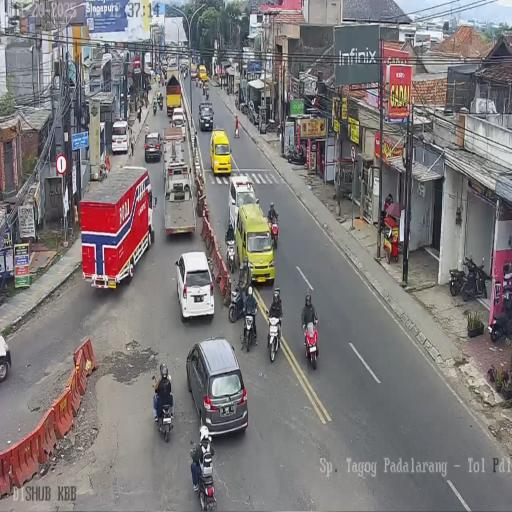car: (186, 338, 248, 438), (236, 202, 274, 283), (173, 252, 213, 324), (210, 127, 232, 176), (112, 119, 130, 155), (0, 331, 12, 382), (144, 131, 162, 162), (171, 107, 186, 138), (198, 103, 214, 131), (198, 65, 208, 82)
motorcycle: (190, 438, 217, 512), (488, 285, 512, 342), (461, 254, 488, 300), (154, 384, 174, 443), (302, 317, 319, 369), (228, 283, 248, 325), (267, 314, 283, 364), (242, 306, 258, 352), (225, 232, 237, 274), (267, 211, 279, 249), (285, 144, 306, 165), (240, 98, 249, 115), (276, 122, 282, 138), (158, 96, 163, 110), (182, 67, 188, 78), (153, 98, 157, 114), (205, 86, 209, 100), (202, 82, 206, 96), (235, 96, 239, 109), (197, 76, 201, 88)
truck: (78, 165, 155, 289), (190, 63, 198, 81)
